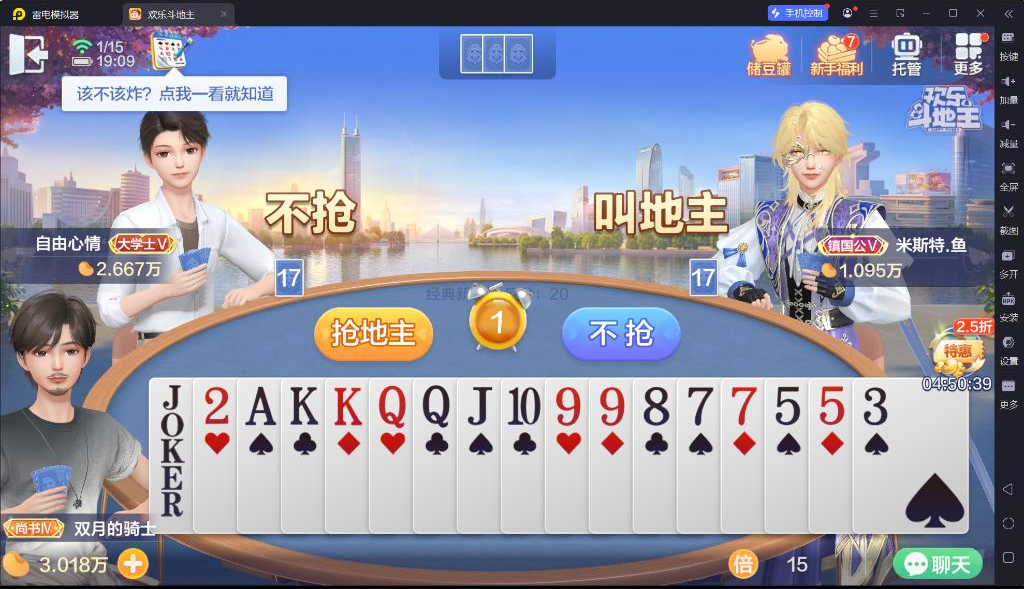A: (242, 384, 277, 428)
J: (464, 383, 496, 427)
K: (331, 383, 366, 427), (286, 385, 320, 430)
Q: (376, 384, 407, 430), (420, 383, 451, 429)
eight: (639, 383, 670, 429)
five: (814, 383, 848, 429), (771, 382, 803, 428)
joker: (157, 380, 187, 463)
nine: (596, 384, 628, 428), (552, 385, 582, 428)
seven: (682, 383, 716, 429), (728, 383, 758, 427)
ten: (506, 384, 543, 428)
three: (861, 385, 892, 428)
two: (202, 386, 232, 426)
